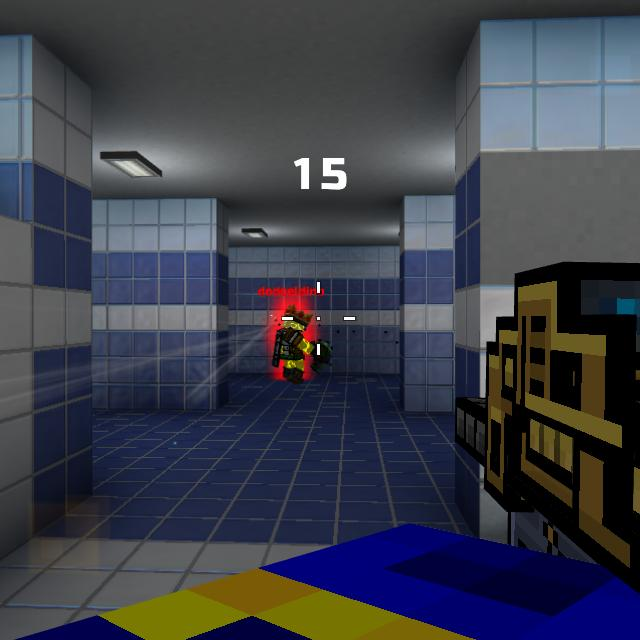Enemy: (276, 308, 316, 386)
